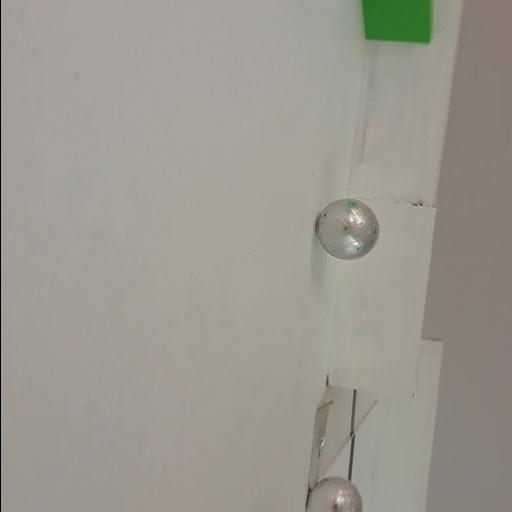alive: (314, 196, 382, 264), (307, 474, 364, 512)
